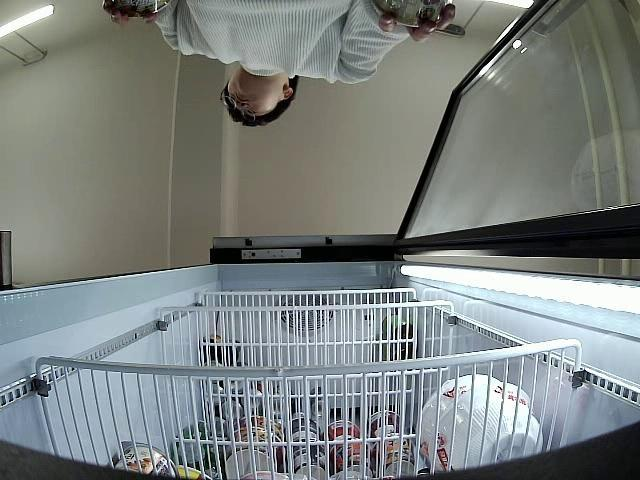04_chapagetti_S: (372, 0, 443, 27), (118, 0, 170, 17)
